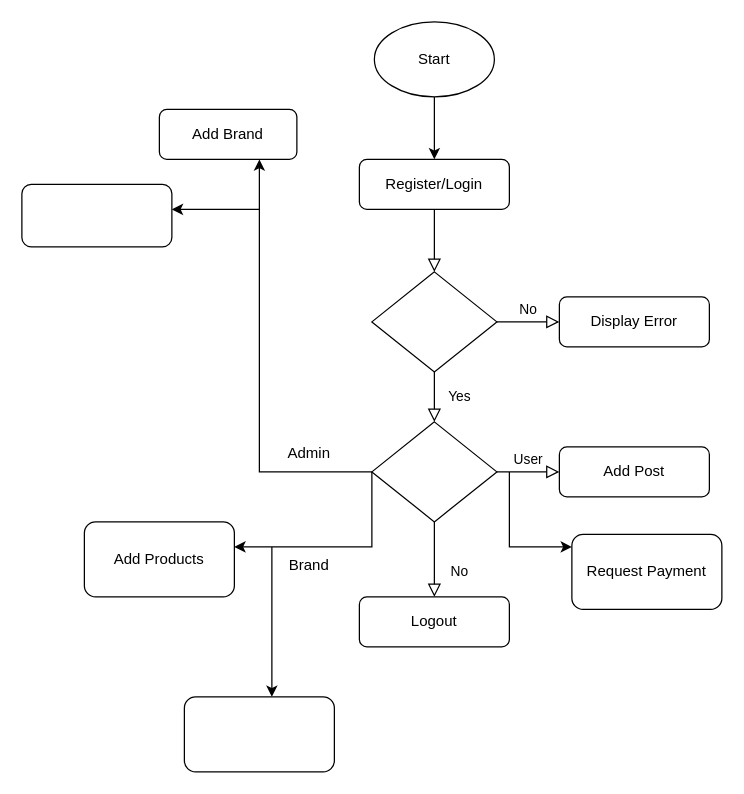
Image size: 744x794. Some labels were removed from this diagram. Here are the shapes that lost their labels. From the top down, the box of each, then its label:
(21, 183, 172, 247): Approved Products
(371, 271, 497, 372): Credentials
(371, 421, 497, 522): Check Role
(183, 696, 334, 772): Approved Payment
